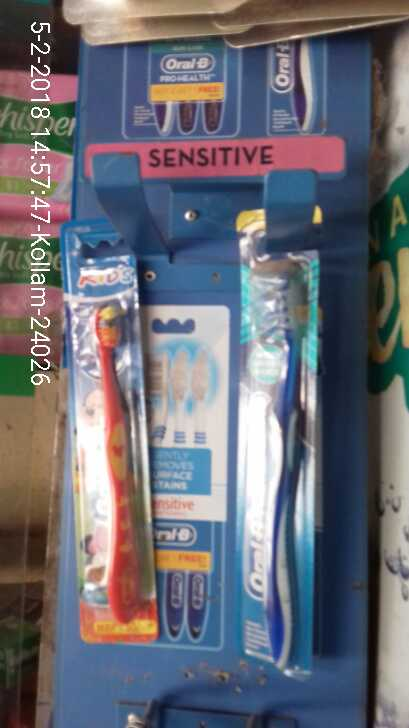oralb: (246, 265, 318, 673), (77, 282, 156, 637)
